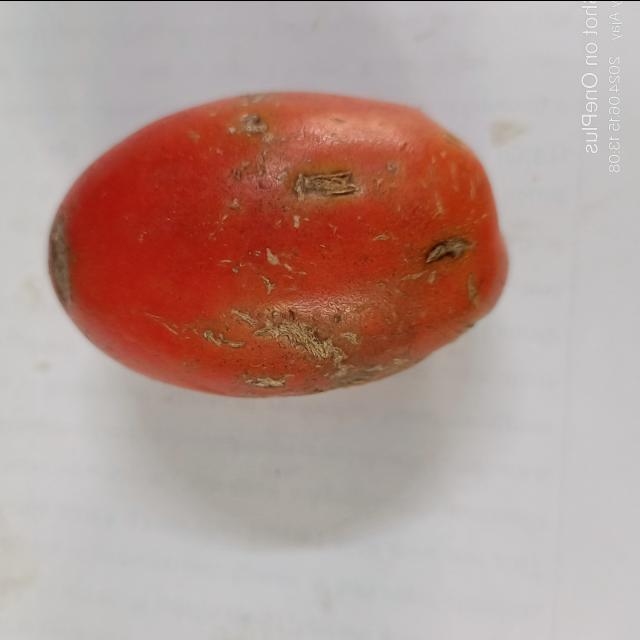Bacterial_Spot: (210, 287, 354, 375), (293, 168, 361, 200), (418, 233, 471, 267), (237, 112, 265, 142), (282, 240, 284, 244)
